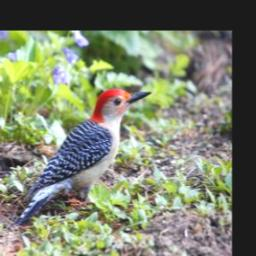Woodpecker: (14, 87, 153, 226)
